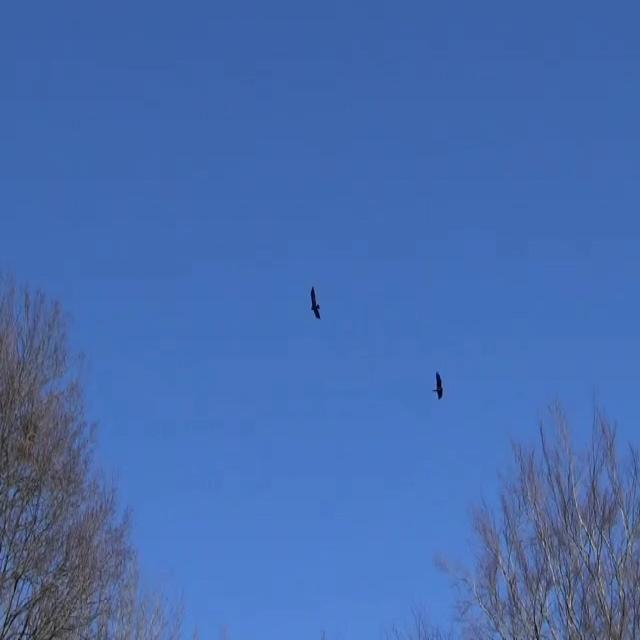bird: (429, 368, 448, 402), (307, 286, 324, 322)
